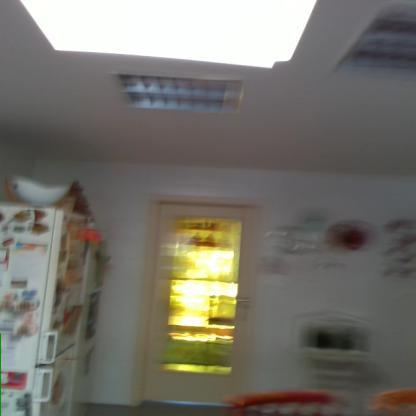door: (157, 202, 254, 406)
lever: (231, 295, 256, 307)
